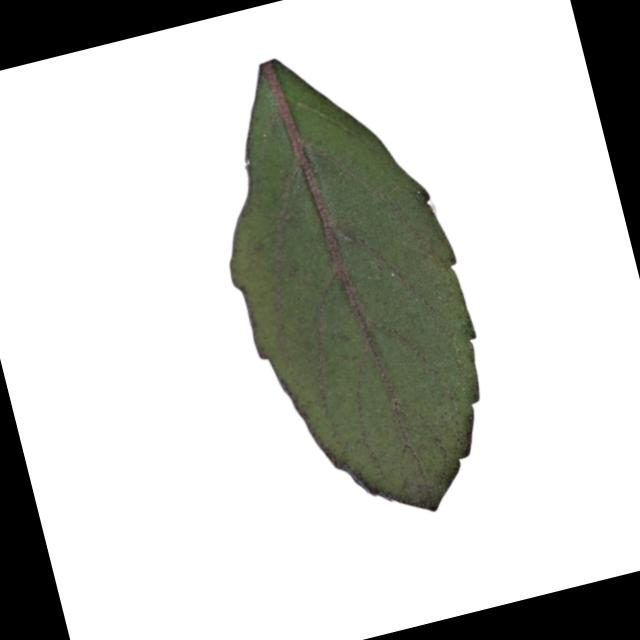tulsi: (184, 26, 515, 544)
